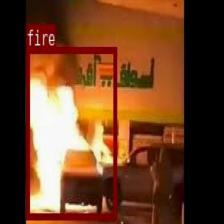fire: (25, 46, 116, 218)
